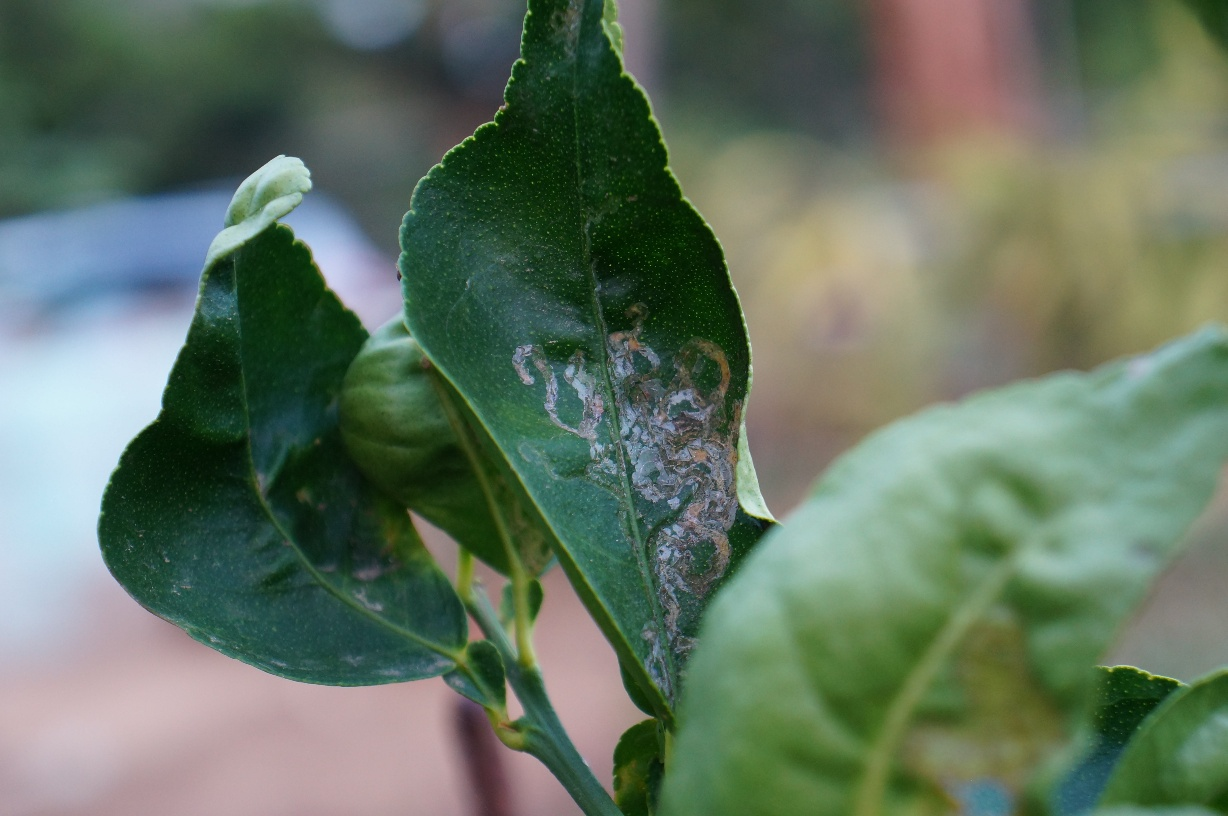damage: (508, 302, 751, 712)
